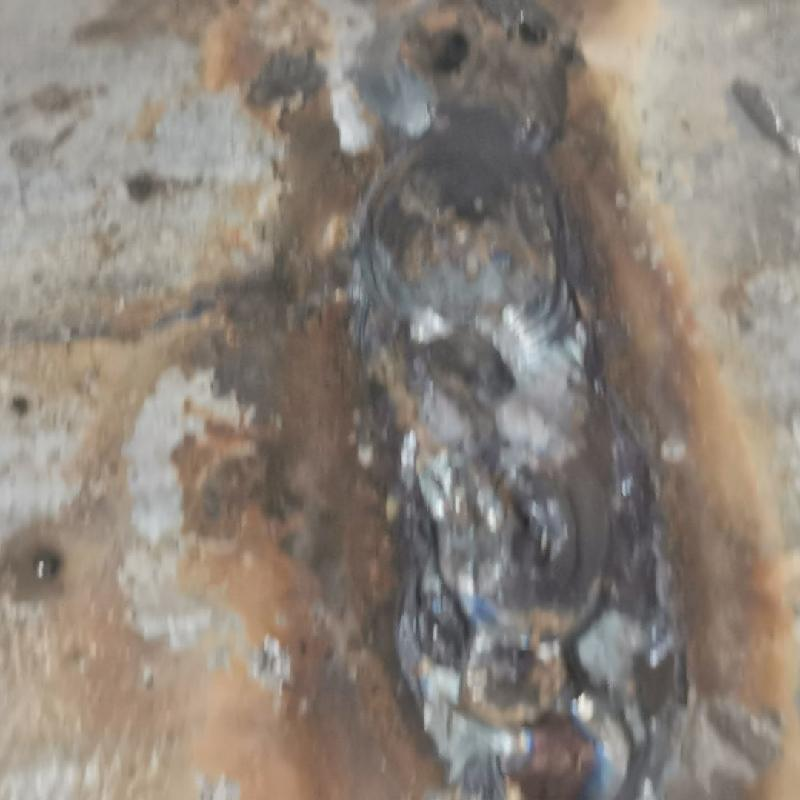Surface_pores: (401, 8, 562, 75)
wrong_size: (371, 2, 602, 408)
